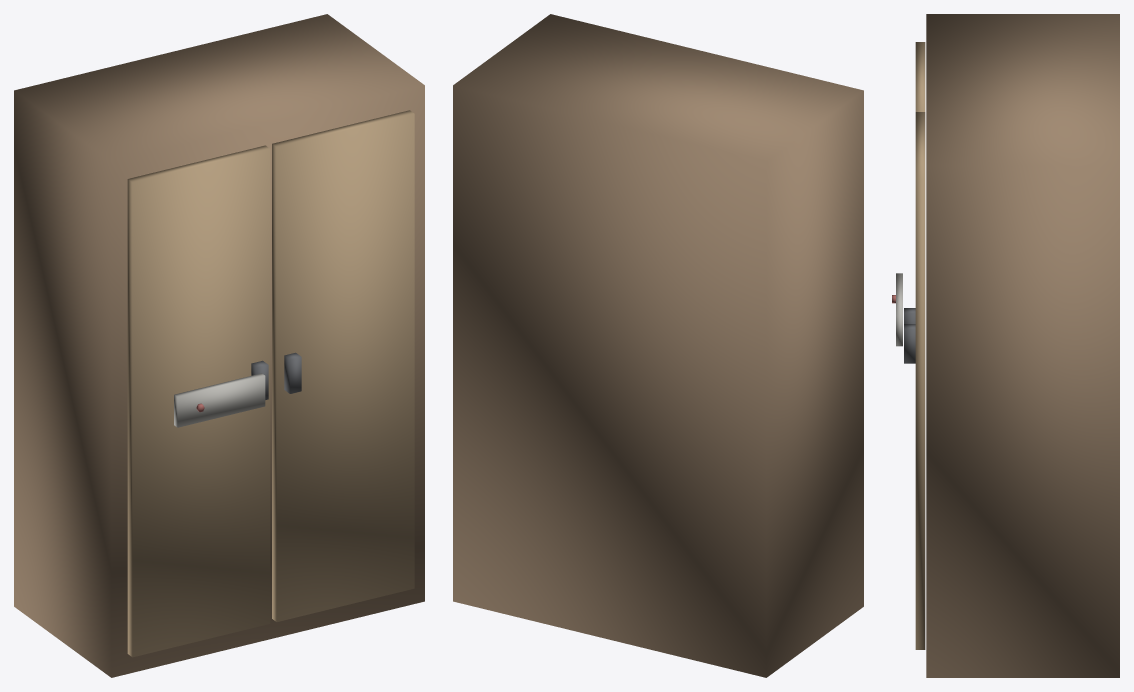
Rendered from case_file_cabinet__compact.glb.
The picture shows the model from 3 angles, left to right: view 1: azimuth 30°, elevation 25°; view 2: azimuth 150°, elevation 25°; view 3: azimuth 270°, elevation 25°; orthographic projection.
Visible parts, largest first — view 1: world; view 2: world; view 3: world.
Part boxes in pixels (x1,y1,x2,y2): world: [14, 14, 424, 677]; world: [453, 14, 863, 677]; world: [892, 14, 1119, 677].
Bounding box in the file's own units: 0.798 × 1.26 × 0.5061.
